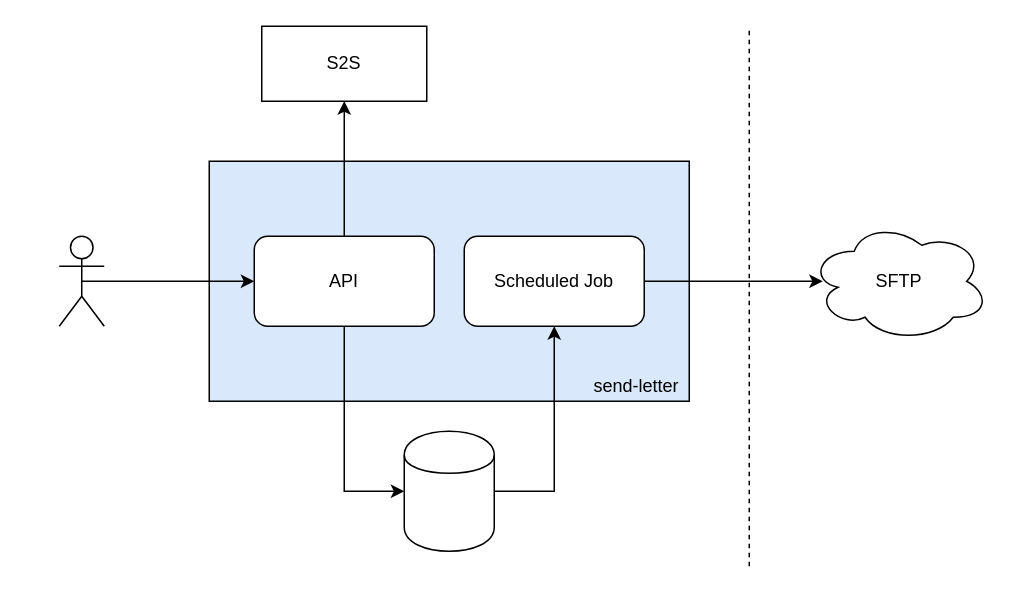
This 1016x594 diagram has some shape labels left out. The centre of each missing label's shape, as x and y in pixels:
"Client Service" belongs at [81,280].
"DB" belongs at [448,490].
